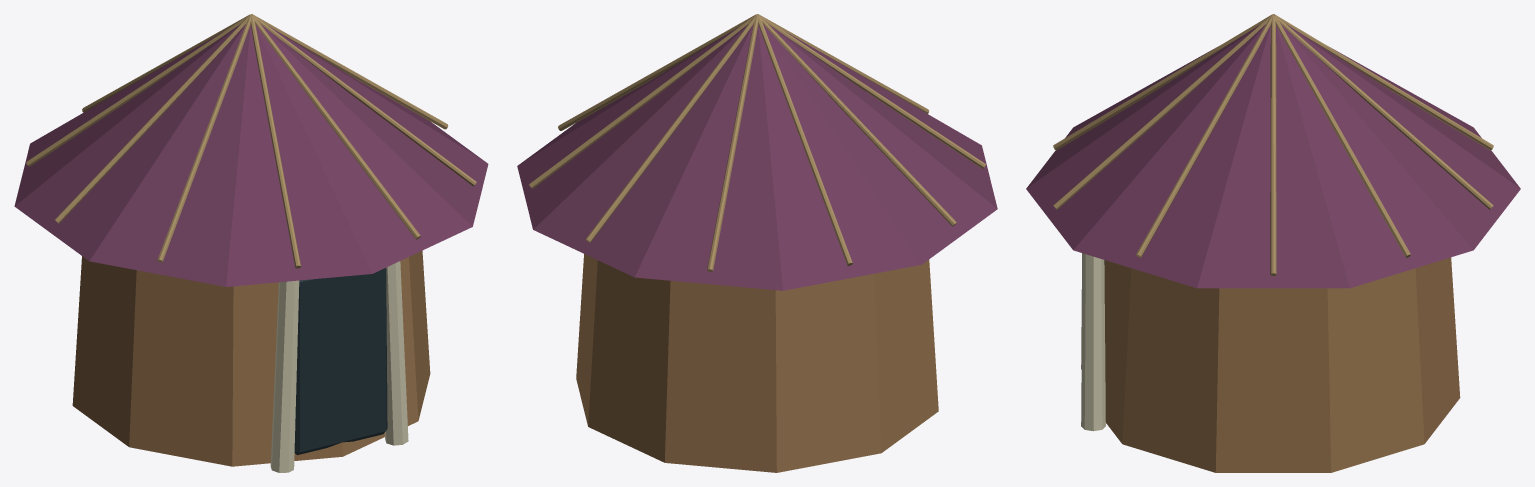
The model's file is goblin_hut.glb.
3 renders of one model, left to right at view 1: azimuth 30°, elevation 25°; view 2: azimuth 150°, elevation 25°; view 3: azimuth 270°, elevation 25°, orthographic. The views are drawn at different scales.
Visible parts, largest first — view 1: Geometry; view 2: Geometry; view 3: Geometry.
Boxes of the visible parts, bbox=[...] form: Geometry: bbox=[14, 14, 488, 472]; Geometry: bbox=[517, 14, 997, 472]; Geometry: bbox=[1026, 14, 1520, 472].
Size of the model in its own units: 2.09 by 1.88 by 2.2.
